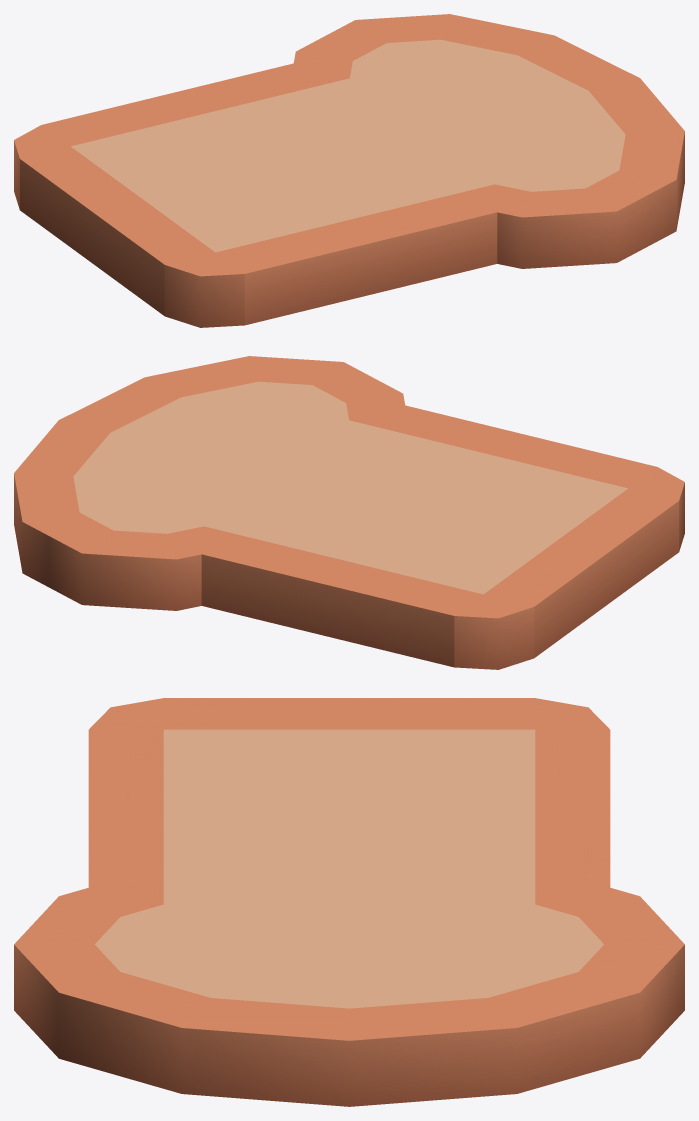
Rendered from food-bread.glb.
3 views of the same model, one above another, from view 1: azimuth 30°, elevation 25°; view 2: azimuth 150°, elevation 25°; view 3: azimuth 270°, elevation 25° (orthographic). The views are drawn at different scales.
Parts seen in each view (by area): view 1: bread; view 2: bread; view 3: bread.
Part boxes in pixels (box(x1,y1,x2,y2)): bread: box(14, 14, 684, 327); bread: box(14, 356, 684, 669); bread: box(14, 698, 684, 1106).
Bounding box in the file's own units: 0.4423 × 0.0397 × 0.3659.
Materials: 1 (1 with a texture image).
